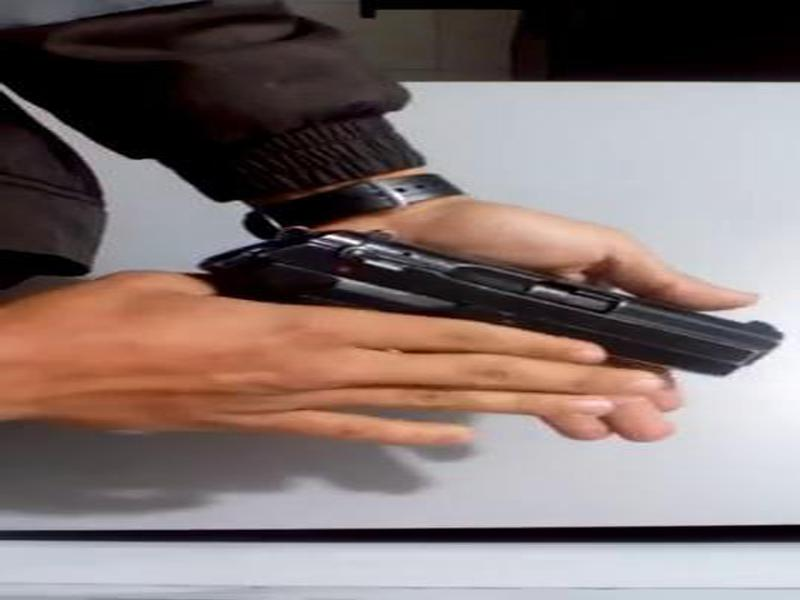Pistola: (197, 205, 789, 465)
